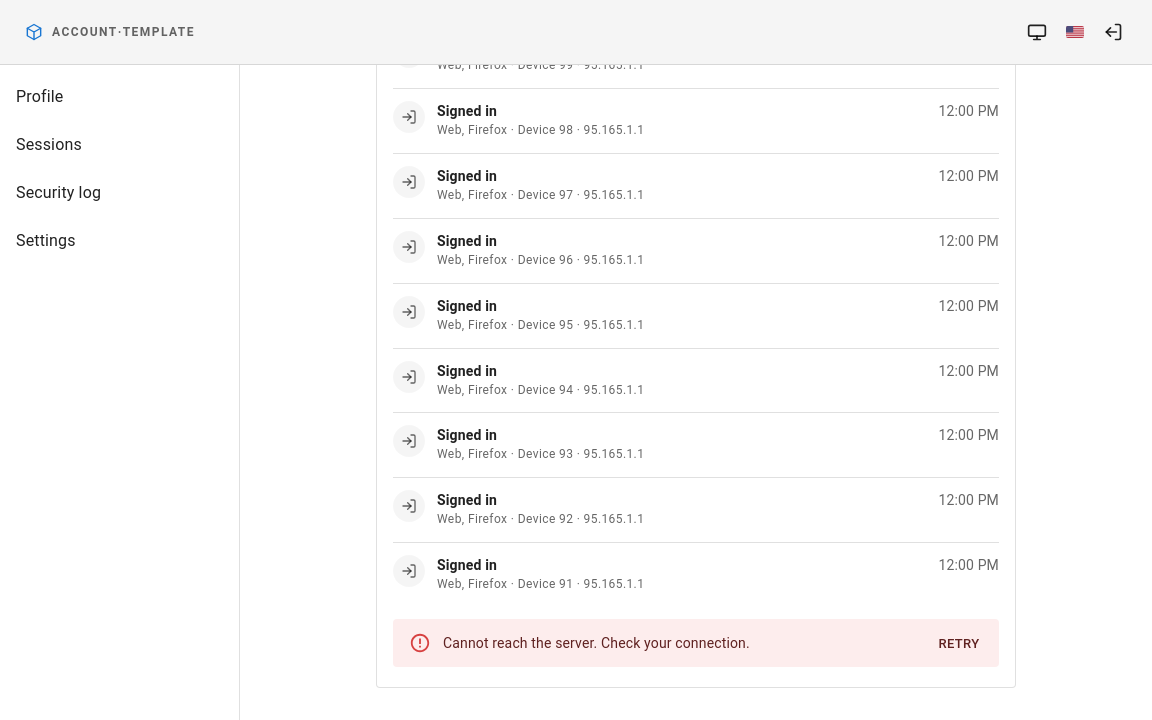
SecurityLogPage › a failed next page keeps what is loaded and offers a retry instead of the sentinel
(page scrolled)
Check: the message shows "Cannot reach the server. Check your connection.", box [443,635,750,651]
Step 1. Click the button "Retry" → [959, 645], box [927,629,991,660]
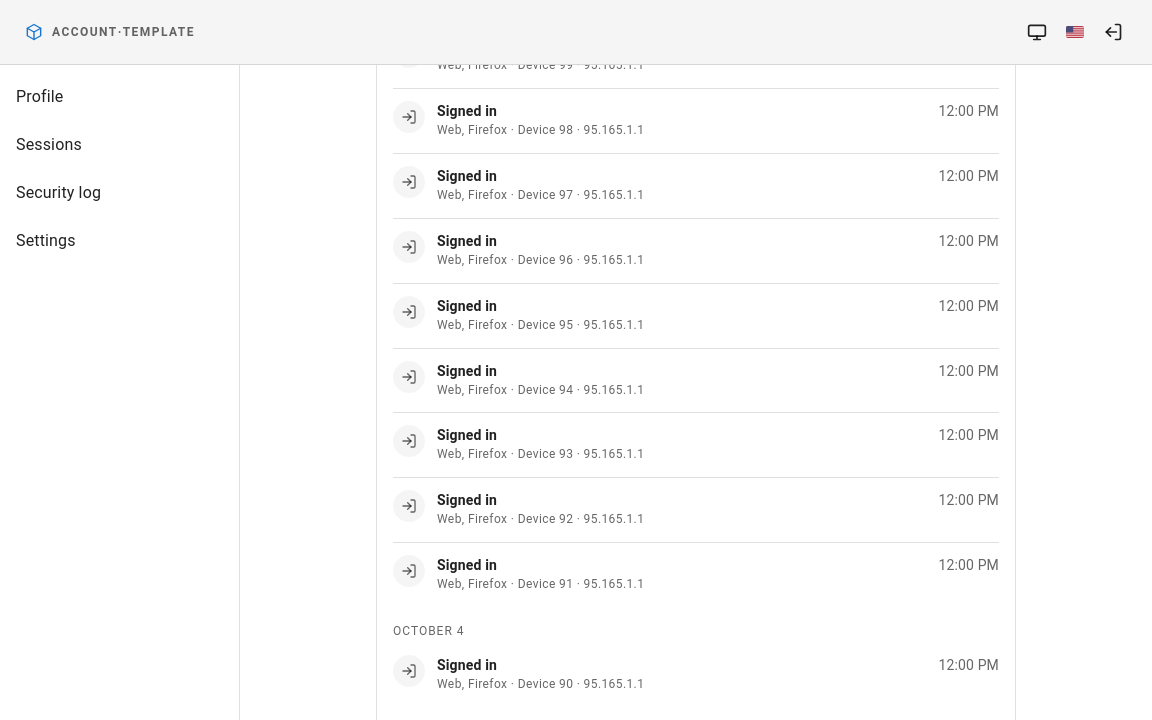
Check: the text "Web, Firefox · Device 90 · 95.165.1.1" is shown, box [437,677,644,691]
Check: the message "Cannot reach the server. Check your connection. Retry" is gone
